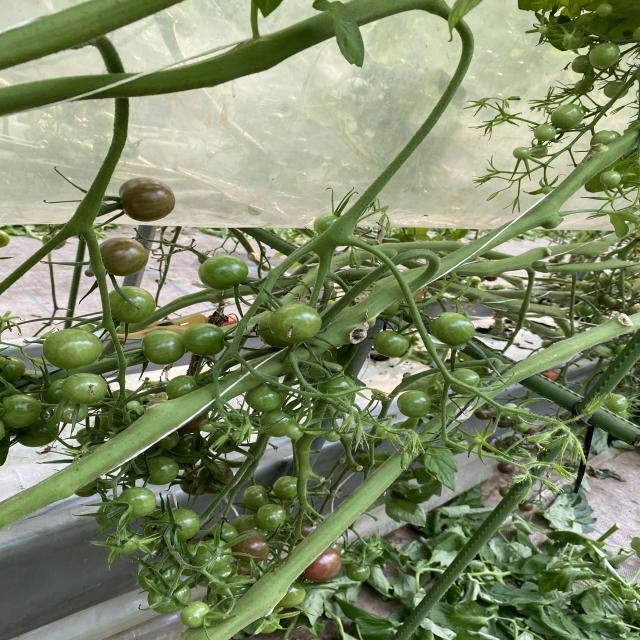yesil: (8, 236, 343, 624)
